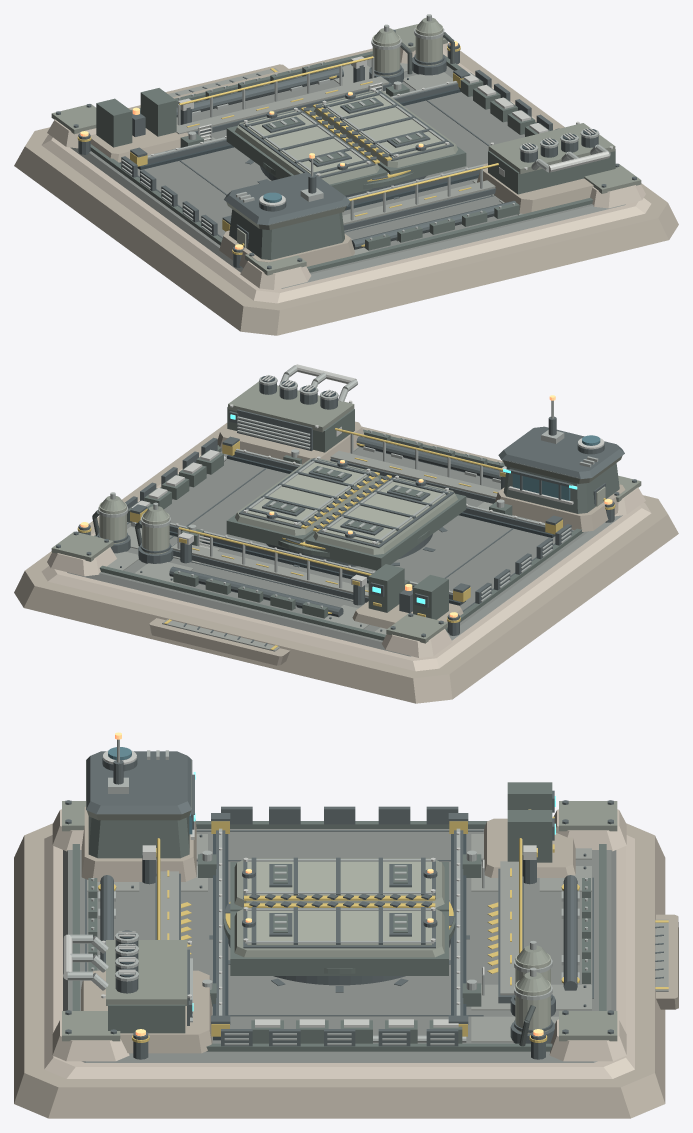
Rendered from silo-closed.glb.
3 views of the same model, one above another, from view 1: azimuth 30°, elevation 25°; view 2: azimuth 150°, elevation 25°; view 3: azimuth 270°, elevation 25° (orthographic). The views are drawn at different scales.
Parts seen in each view (by area): view 1: static__foundation, static__deck, static__olive_dark, static__steel_dark, static__concrete_high, static__olive, static__deck_light, static__steel, blast_door_R__olive_light, blast_door_L__steel_dark, blast_door_L__olive_light, blast_door_R__steel_dark (+10 smaller); view 2: static__foundation, static__deck, static__steel_dark, static__olive_dark, static__concrete_high, static__olive, static__deck_light, static__steel, blast_door_L__olive_dark, blast_door_L__steel_dark, static__yellow, blast_door_L__olive_light (+11 smaller); view 3: static__foundation, static__deck, static__steel_dark, static__concrete_high, static__olive_dark, static__olive, static__deck_light, static__steel, blast_door_R__olive_dark, blast_door_R__olive_light, blast_door_L__olive_light, blast_door_R__steel_dark (+12 smaller).
Boxes of the visible parts, left/top/right/bottom form: static__foundation: left=14, top=42, right=678, bottom=335; static__deck: left=70, top=59, right=625, bottom=288; static__olive_dark: left=90, top=51, right=615, bottom=272; static__steel_dark: left=56, top=29, right=636, bottom=269; static__concrete_high: left=41, top=43, right=651, bottom=303; static__olive: left=51, top=17, right=641, bottom=275; static__deck_light: left=147, top=62, right=522, bottom=255; static__steel: left=121, top=14, right=610, bottom=241; blast_door_R__olive_light: left=321, top=92, right=449, bottom=158; blast_door_L__steel_dark: left=239, top=107, right=376, bottom=178; blast_door_L__olive_light: left=243, top=111, right=371, bottom=175; blast_door_R__steel_dark: left=315, top=90, right=453, bottom=160; static__foundation: left=14, top=421, right=678, bottom=703; static__deck: left=67, top=444, right=622, bottom=656; static__steel_dark: left=56, top=383, right=636, bottom=646; static__olive_dark: left=94, top=407, right=619, bottom=640; static__concrete_high: left=41, top=454, right=651, bottom=671; static__olive: left=51, top=381, right=641, bottom=643; static__deck_light: left=107, top=446, right=545, bottom=651; static__steel: left=98, top=365, right=598, bottom=608; blast_door_L__olive_dark: left=305, top=486, right=466, bottom=570; blast_door_L__steel_dark: left=314, top=475, right=453, bottom=547; static__yellow: left=77, top=428, right=615, bottom=649; blast_door_L__olive_light: left=321, top=479, right=449, bottom=545; static__foundation: left=14, top=806, right=678, bottom=1118; static__deck: left=63, top=829, right=616, bottom=1062; static__steel_dark: left=65, top=751, right=663, bottom=1059; static__concrete_high: left=44, top=809, right=634, bottom=1078; static__olive_dark: left=72, top=782, right=606, bottom=1051; static__olive: left=62, top=760, right=617, bottom=1041; static__deck_light: left=87, top=834, right=668, bottom=1042; static__steel: left=67, top=739, right=587, bottom=1045; blast_door_R__olive_dark: left=230, top=911, right=448, bottom=975; blast_door_R__olive_light: left=247, top=911, right=431, bottom=945; blast_door_L__olive_light: left=247, top=861, right=431, bottom=895; blast_door_R__steel_dark: left=242, top=901, right=437, bottom=948.
Size of the model in its own units: 19 by 5.52 by 19.4.
